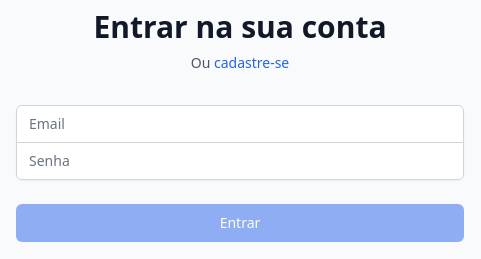
it: LoginForm Component › Form Validation › should enable submit button when fields are filled
Type "test@example.com" into the field labelled "Email" at (240, 124), box 16,104 -> 464,142
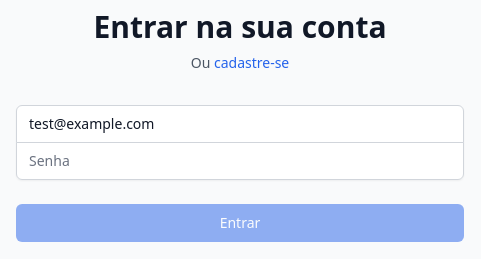
Type "password123" into the password field labelled "Senha" at (240, 160), box 16,142 -> 464,180
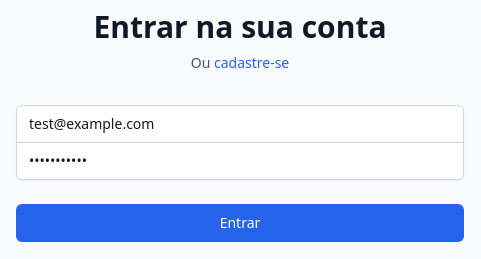
Now the button "Entrar" is enabled, box 16,204 -> 464,242
